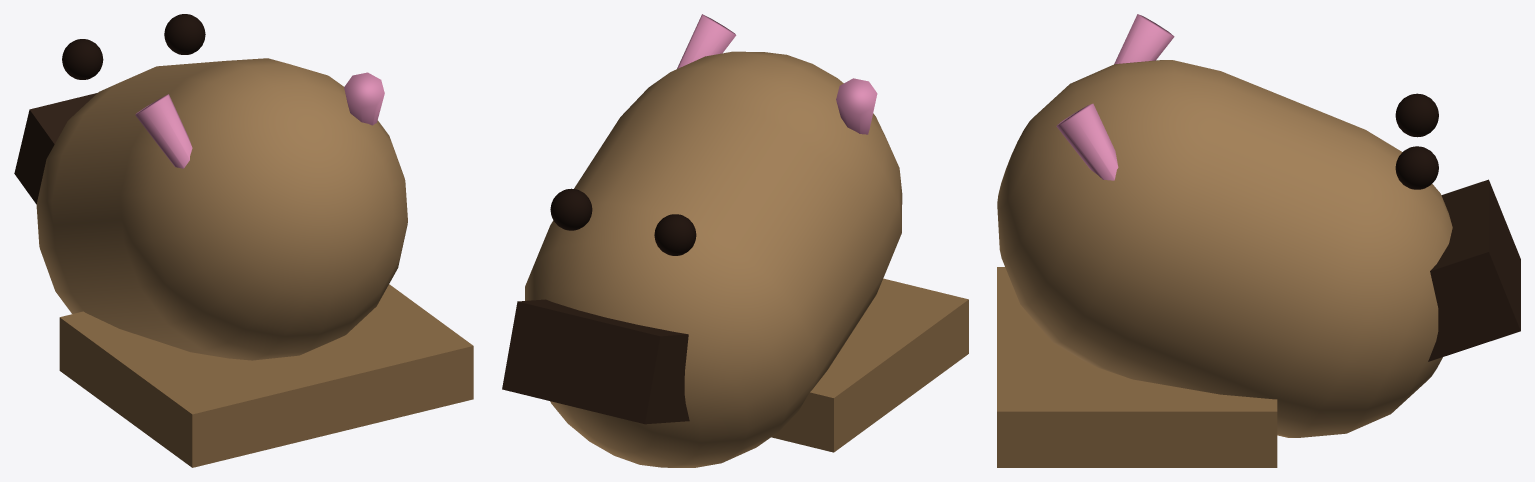
The model's file is b_hydralisk_den.glb.
3 renders of one model, left to right at view 1: azimuth 30°, elevation 25°; view 2: azimuth 150°, elevation 25°; view 3: azimuth 270°, elevation 25°, orthographic. The views are drawn at different scales.
Parts seen in each view (by area): view 1: de_head.001, de_body.001, de_maw.001, de_sp-1.001, de_sp1.001, de_eye-1.001, de_eye1.001; view 2: de_head.001, de_maw.001, de_body.001, de_sp-1.001, de_sp1.001, de_eye-1.001, de_eye1.001; view 3: de_head.001, de_body.001, de_maw.001, de_sp1.001, de_sp-1.001, de_eye1.001, de_eye-1.001.
Boxes of the visible parts, x1,y1,x2,y2 form: de_head.001: [36, 58, 407, 360]; de_body.001: [59, 284, 473, 467]; de_maw.001: [14, 93, 97, 204]; de_sp-1.001: [135, 94, 192, 168]; de_sp1.001: [344, 72, 384, 125]; de_eye-1.001: [62, 39, 103, 79]; de_eye1.001: [164, 14, 205, 54]; de_head.001: [525, 51, 902, 467]; de_maw.001: [502, 299, 689, 424]; de_body.001: [771, 278, 968, 452]; de_sp-1.001: [836, 78, 877, 134]; de_sp1.001: [677, 14, 736, 68]; de_eye-1.001: [654, 214, 696, 255]; de_eye1.001: [550, 188, 592, 230]; de_head.001: [997, 60, 1452, 437]; de_body.001: [997, 267, 1277, 467]; de_maw.001: [1428, 179, 1520, 361]; de_sp1.001: [1056, 103, 1118, 180]; de_sp-1.001: [1114, 14, 1174, 64]; de_eye1.001: [1395, 146, 1438, 189]; de_eye-1.001: [1395, 93, 1438, 137].
Size of the model in its own units: 1.1 by 1.26 by 1.68.
